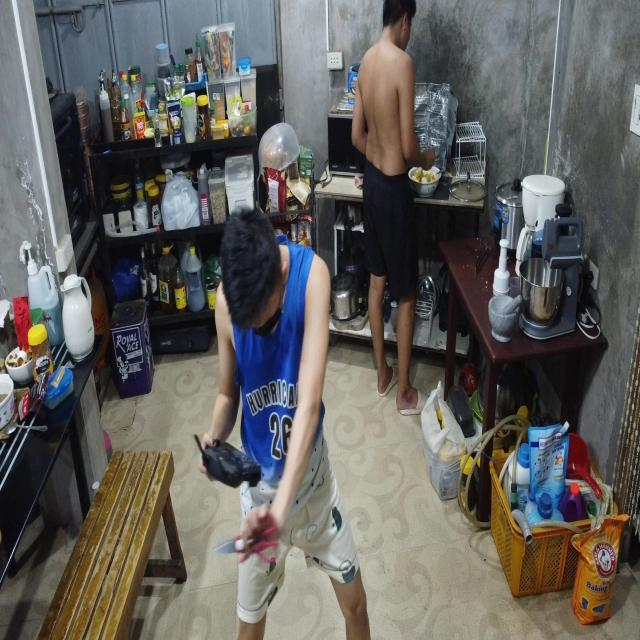scissor: (213, 511, 279, 564)
